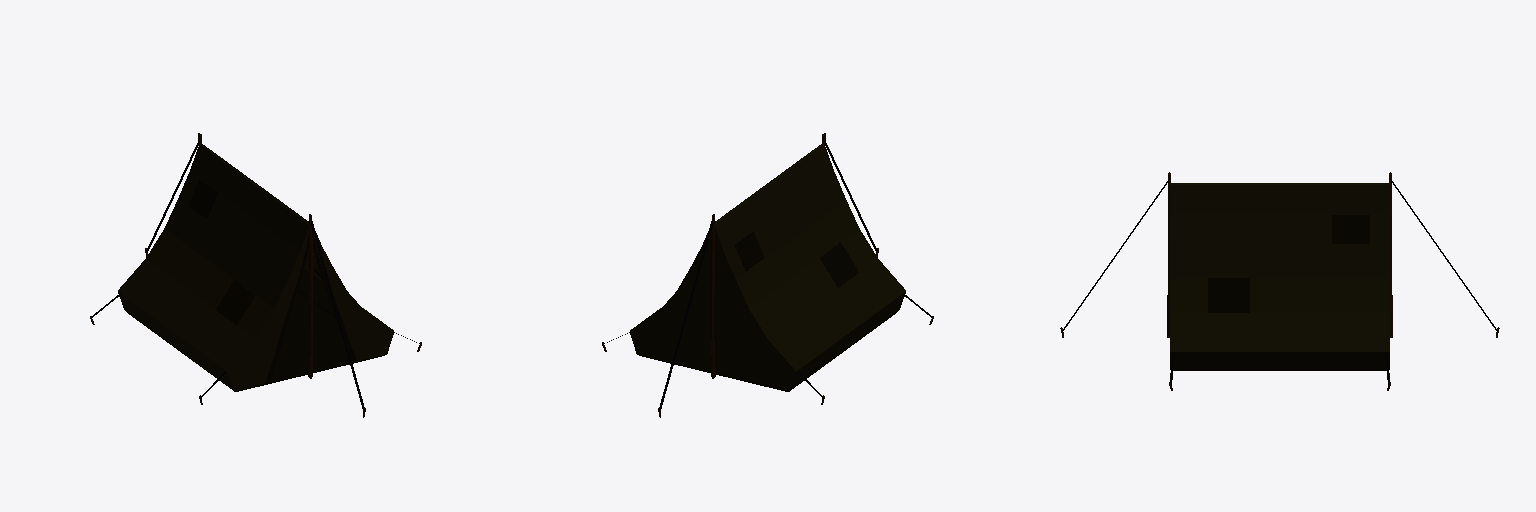
The model's file is Tent.obj.
3 renders of one model, left to right at view 1: azimuth 30°, elevation 25°; view 2: azimuth 150°, elevation 25°; view 3: azimuth 270°, elevation 25°, orthographic.
Visible parts, largest first — view 1: Tent_Cylinder.020; view 2: Tent_Cylinder.020; view 3: Tent_Cylinder.020.
Boxes of the visible parts, <box> form: Tent_Cylinder.020: <box>90,133,421,417</box>; Tent_Cylinder.020: <box>602,133,933,417</box>; Tent_Cylinder.020: <box>1060,172,1499,390</box>.
Bounding box in the file's own units: 14.58 × 10.32 × 24.87.